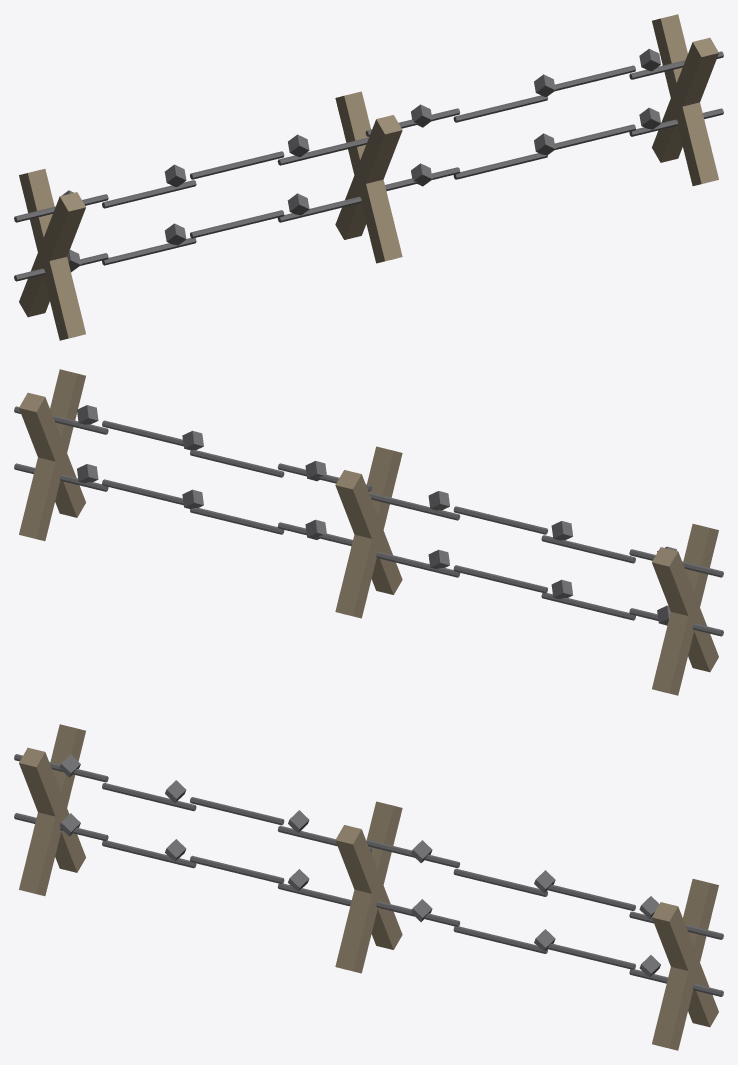
The model's file is barbed_wire.glb.
The picture shows the model from 3 angles, top to bottom: view 1: azimuth 30°, elevation 25°; view 2: azimuth 150°, elevation 25°; view 3: azimuth 330°, elevation 25°; orthographic projection.
Parts seen in each view (by area): view 1: BarbedWire, accent_BarbedWire; view 2: BarbedWire, accent_BarbedWire; view 3: BarbedWire, accent_BarbedWire.
Part boxes in pixels (bbox=[...]): BarbedWire: bbox=[19, 14, 718, 340]; accent_BarbedWire: bbox=[14, 48, 723, 281]; BarbedWire: bbox=[19, 369, 718, 695]; accent_BarbedWire: bbox=[14, 405, 723, 636]; BarbedWire: bbox=[19, 724, 718, 1050]; accent_BarbedWire: bbox=[14, 754, 723, 996].
Bounding box in the file's own units: 2.01 × 0.3926 × 0.2452.
